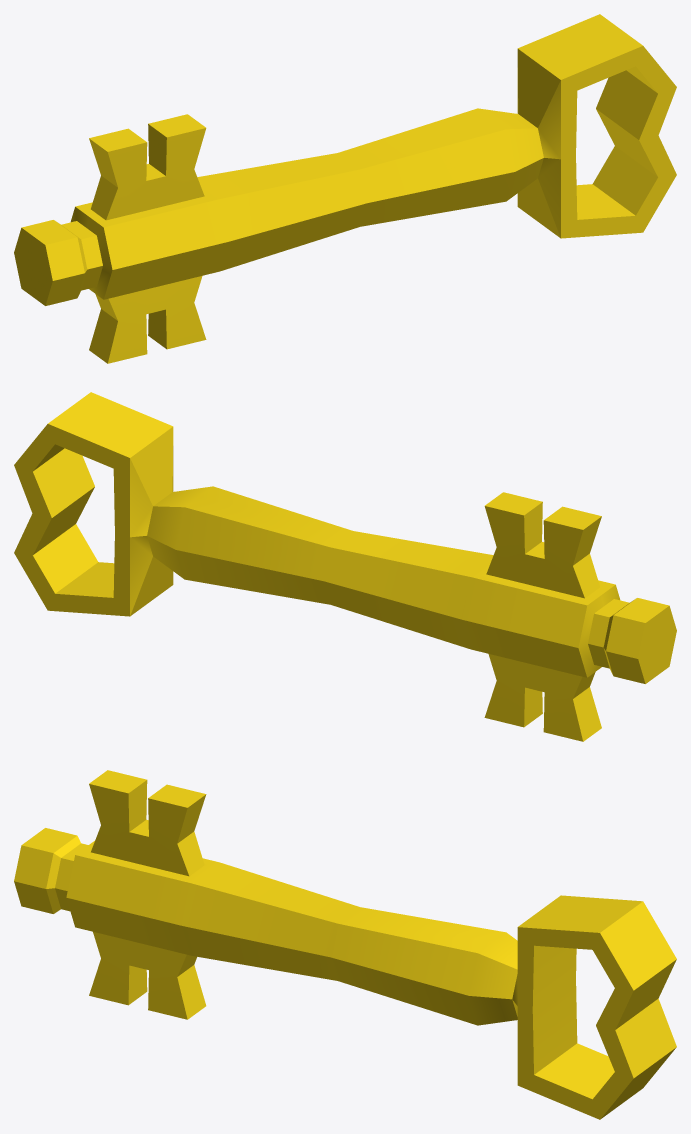
File: Key_2.glb
3 renders of one model, top to bottom at view 1: azimuth 30°, elevation 25°; view 2: azimuth 150°, elevation 25°; view 3: azimuth 330°, elevation 25°, orthographic.
Visible parts, largest first — view 1: Key_2; view 2: Key_2; view 3: Key_2.
Part boxes in pixels (x1,y1,x2,y2): Key_2: [14, 14, 676, 363]; Key_2: [14, 392, 676, 741]; Key_2: [14, 770, 676, 1119].
Bounding box in the file's own units: 0.1175 × 0.0383 × 0.0151.
